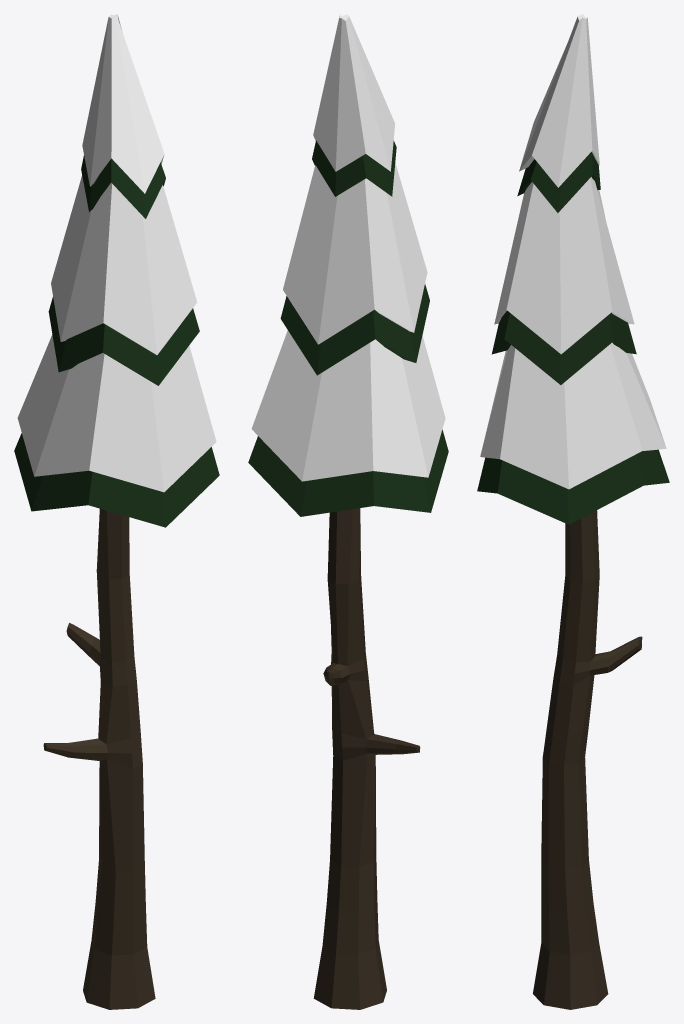
File: Tree_2.obj
3 renders of one model, left to right at view 1: azimuth 30°, elevation 25°; view 2: azimuth 150°, elevation 25°; view 3: azimuth 270°, elevation 25°, orthographic.
Visible parts, largest first — view 1: Cylinder.003_Cylinder.002; view 2: Cylinder.003_Cylinder.002; view 3: Cylinder.003_Cylinder.002.
Boxes of the visible parts, bbox=[...] form: Cylinder.003_Cylinder.002: bbox=[14, 14, 219, 1009]; Cylinder.003_Cylinder.002: bbox=[248, 14, 448, 1009]; Cylinder.003_Cylinder.002: bbox=[477, 14, 669, 1009].
Size of the model in its own units: 1.01 by 5.61 by 1.
